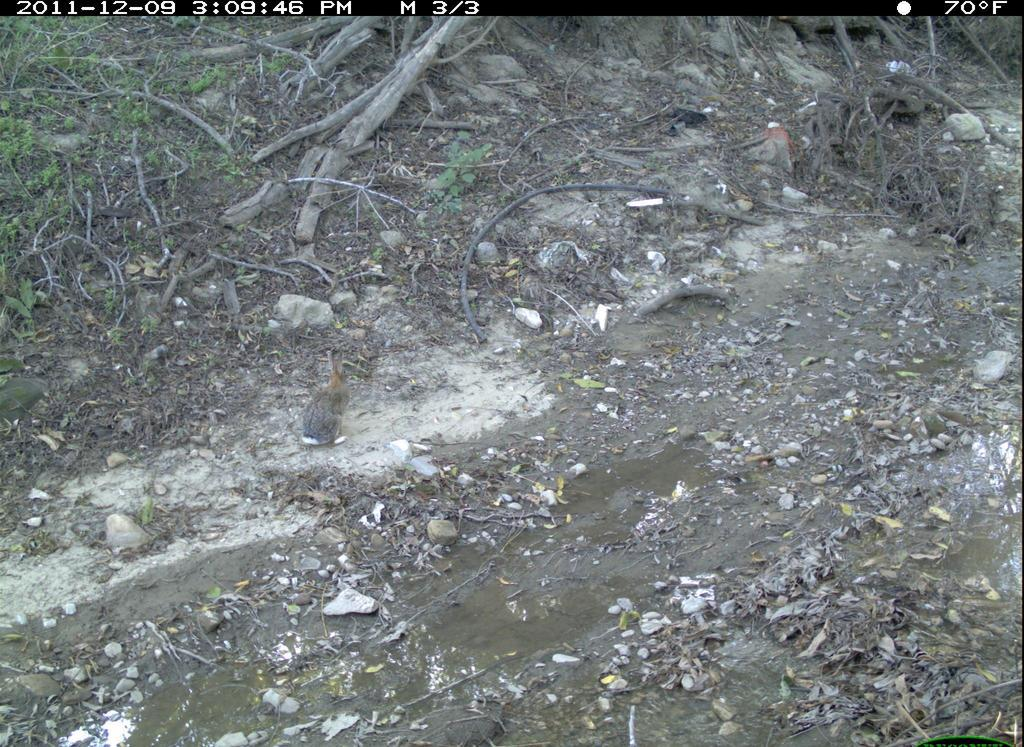rabbit: (294, 341, 356, 456)
